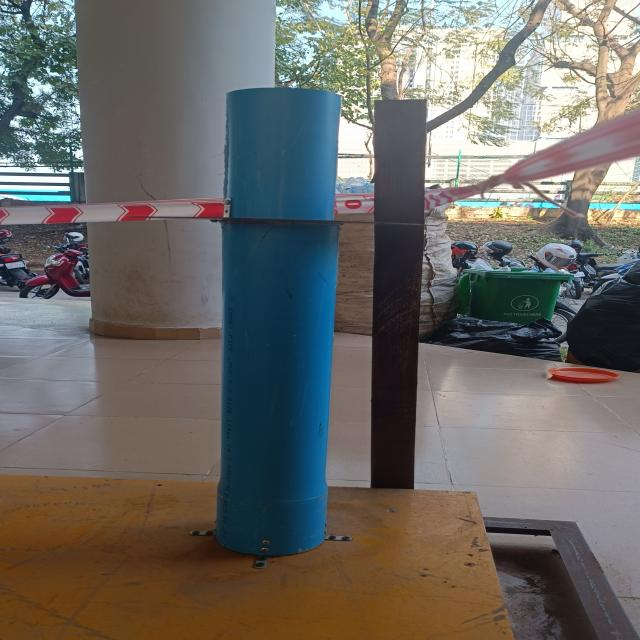pole: (158, 90, 449, 350)
